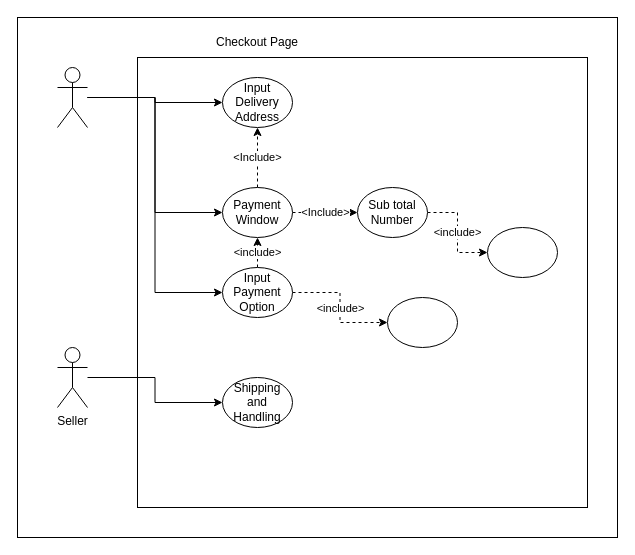
The diagram is 635 pixels wide and 555 high, and some of its shapes have lost their labels. Here are the shapes that lost their labels. From the top down, the centre of each, then its label:
At point 72,97: "Buyer".
At point 522,252: "Tax on Purchase".
At point 422,322: "PTC Bucks".
